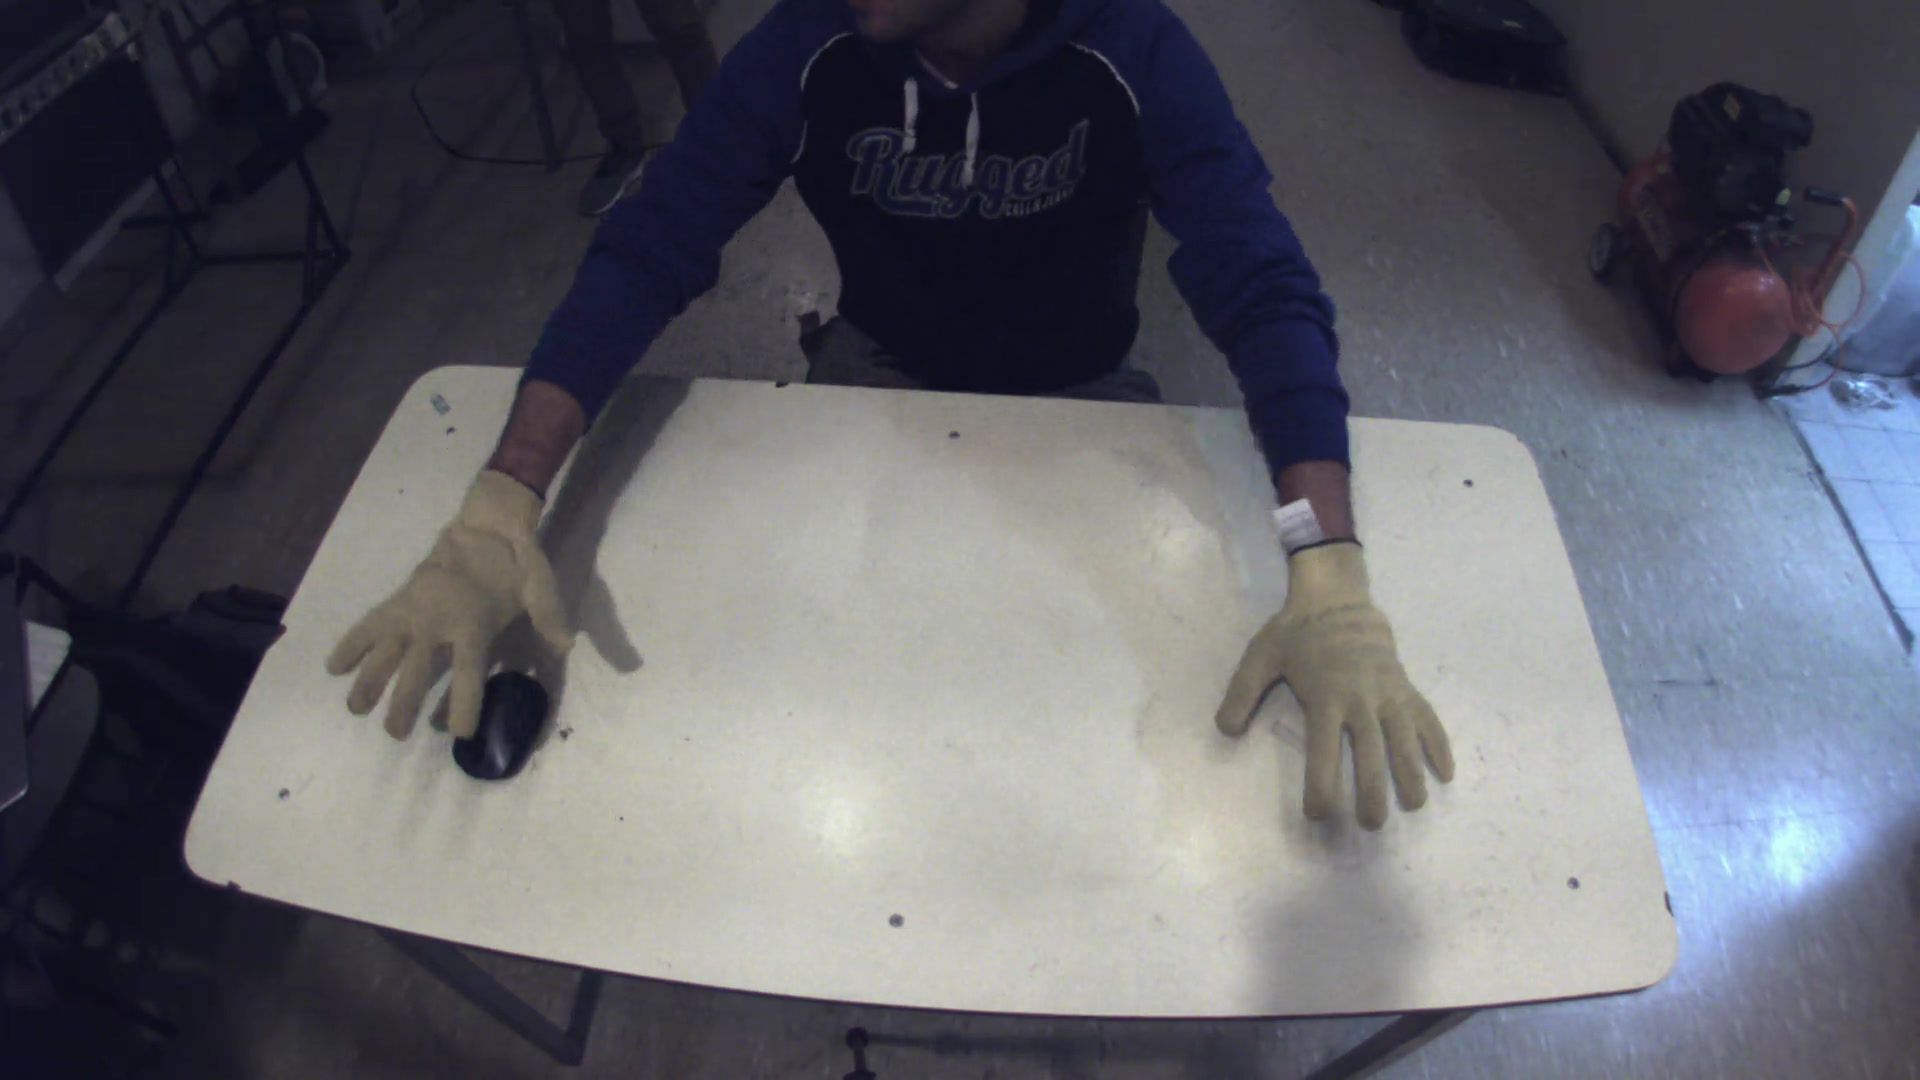hand: (1213, 531, 1476, 837), (309, 469, 568, 752)
